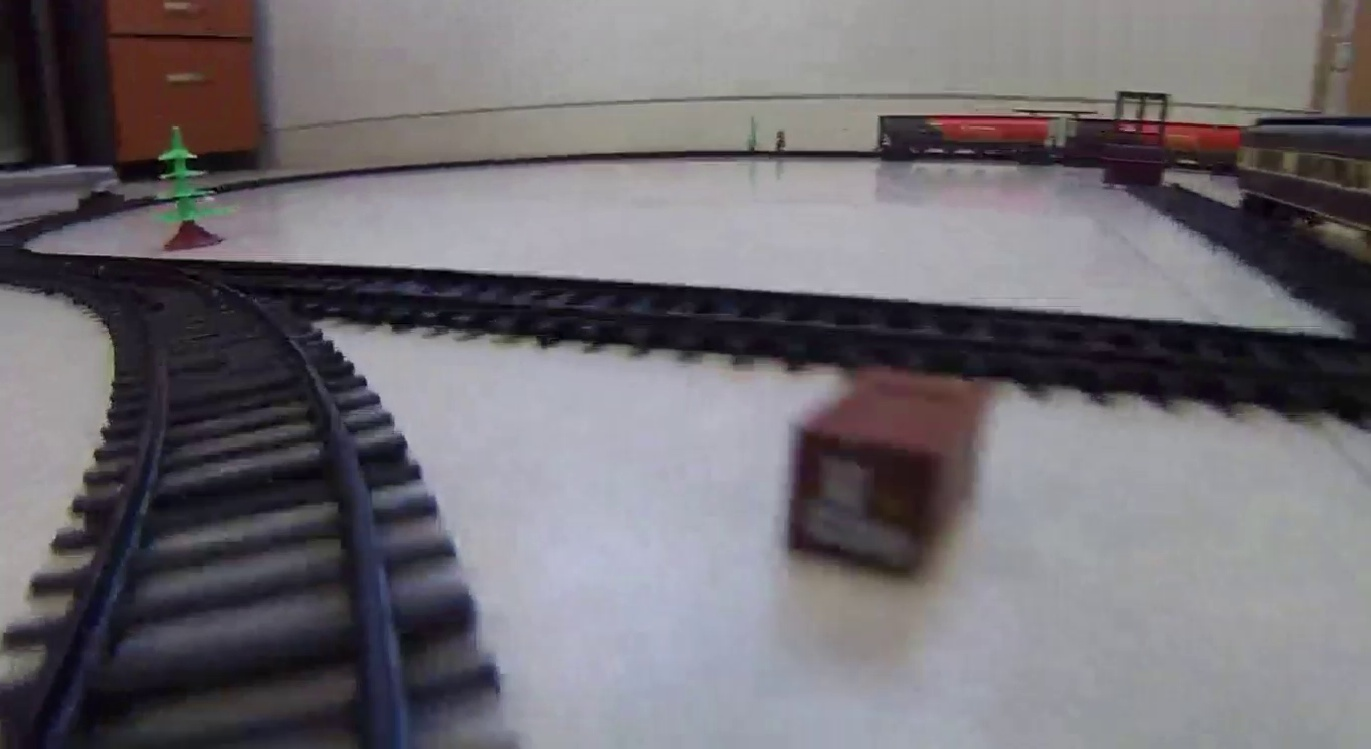box: (789, 362, 979, 586)
tree: (153, 122, 230, 247)
